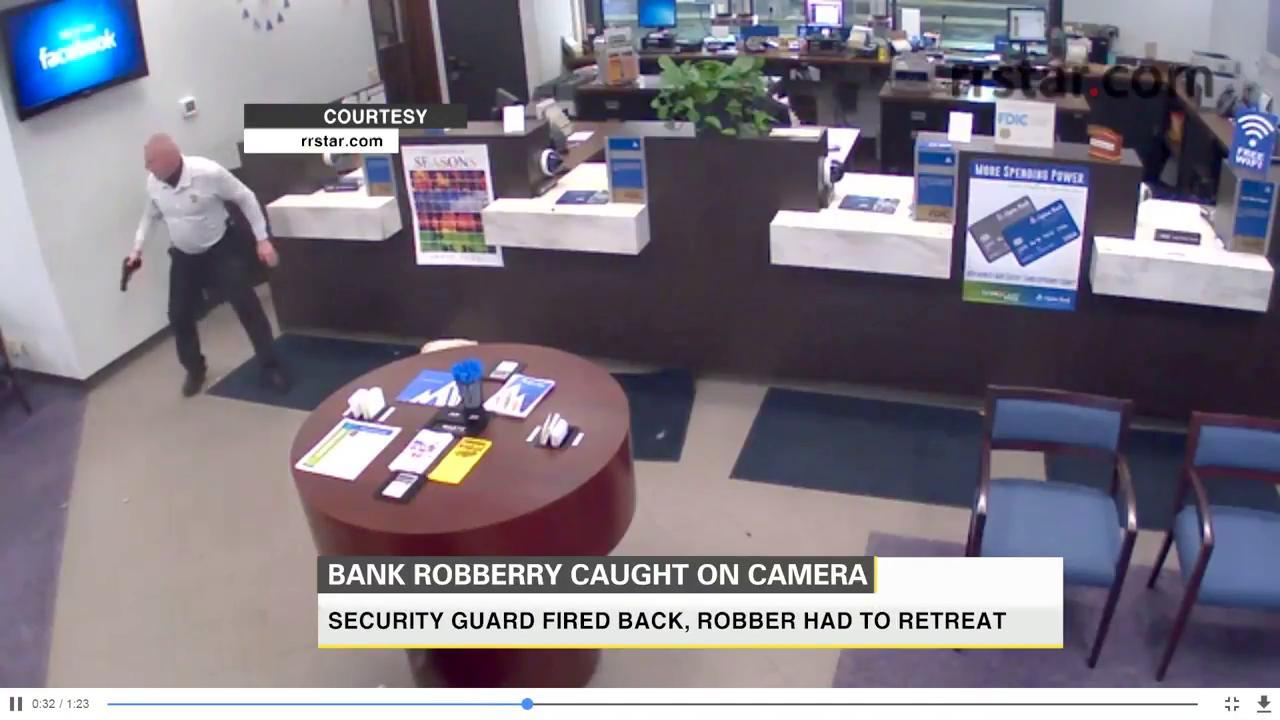gun: (121, 255, 143, 292)
